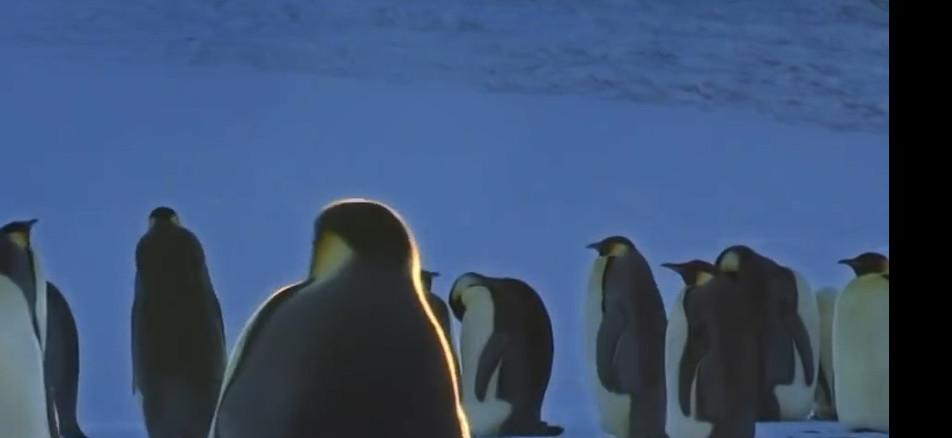Emperor Penguin: (168, 176, 512, 438), (122, 200, 222, 438), (440, 270, 574, 438), (0, 212, 96, 438), (668, 242, 776, 438), (576, 222, 667, 438), (832, 252, 900, 436)
